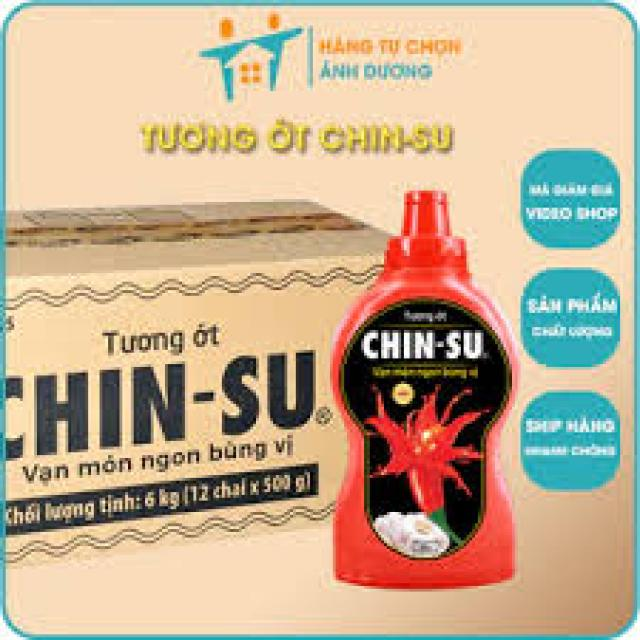tuong ot chinsu: (331, 185, 525, 592)
